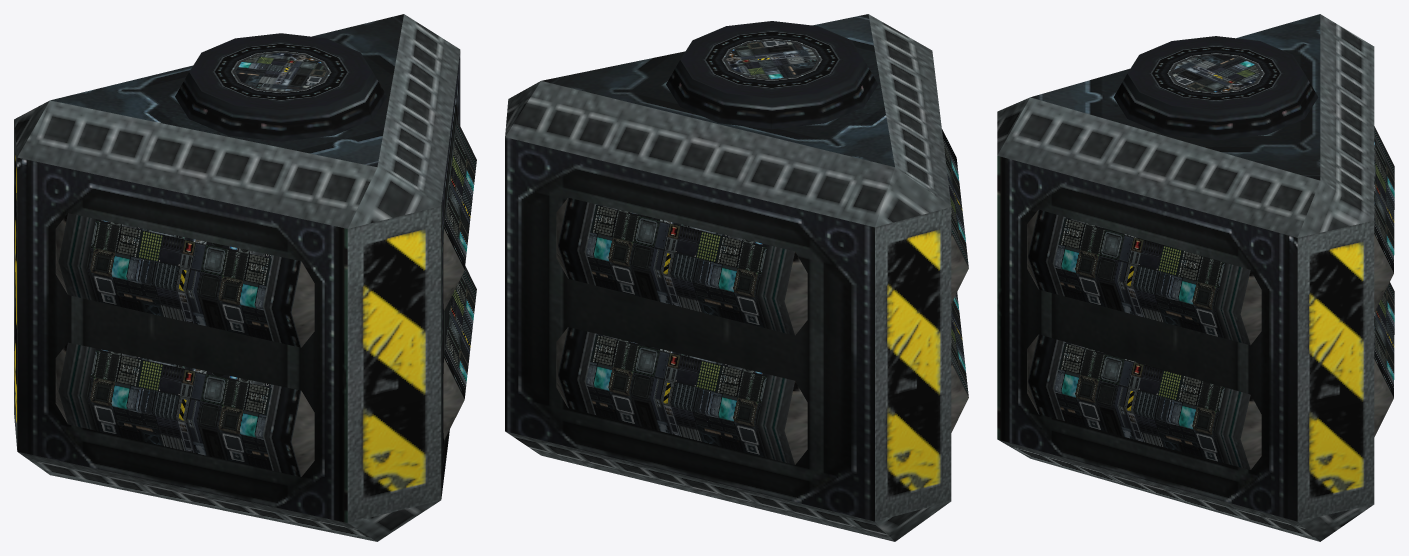
Rendered from Battery_small_05.FBX.
3 views of the same model, side by side, from view 1: azimuth 30°, elevation 25°; view 2: azimuth 150°, elevation 25°; view 3: azimuth 270°, elevation 25° (orthographic). The views are drawn at different scales.
Visible parts, largest first — view 1: Battery_small_05, Liquid; view 2: Battery_small_05, Liquid; view 3: Battery_small_05, Liquid.
Boxes of the visible parts, x1,y1,x2,y2 form: Battery_small_05: (14,14,476,541); Liquid: (86,52,475,470); Battery_small_05: (505,14,968,541); Liquid: (586,40,967,457); Battery_small_05: (997,14,1394,541); Liquid: (1054,54,1394,463).
Size of the model in its own units: 153 by 132 by 124.
